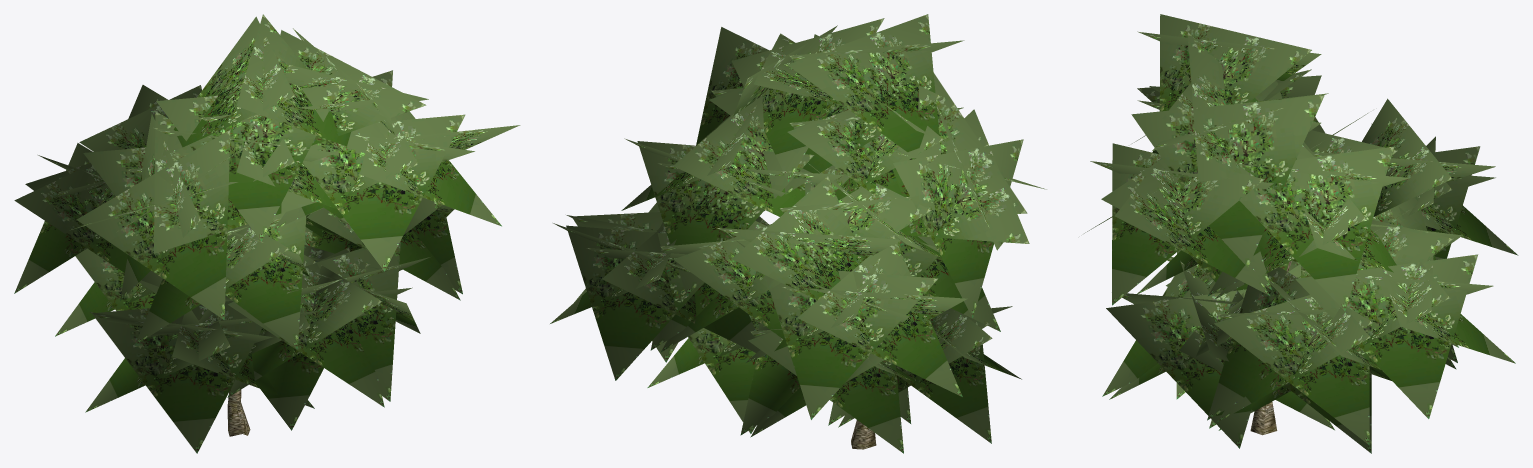
File: apple-2.glb
3 views of the same model, side by side, from view 1: azimuth 30°, elevation 25°; view 2: azimuth 150°, elevation 25°; view 3: azimuth 270°, elevation 25° (orthographic). The views are drawn at different scales.
Parts seen in each view (by area): view 1: apple-2; view 2: apple-2; view 3: apple-2.
Part boxes in pixels (x1,y1,x2,y2): apple-2: (14,14,520,453); apple-2: (550,14,1046,453); apple-2: (1084,14,1518,453).
Size of the model in its own units: 7.33 by 6.56 by 6.48.
Materials: 2 (2 with a texture image).
